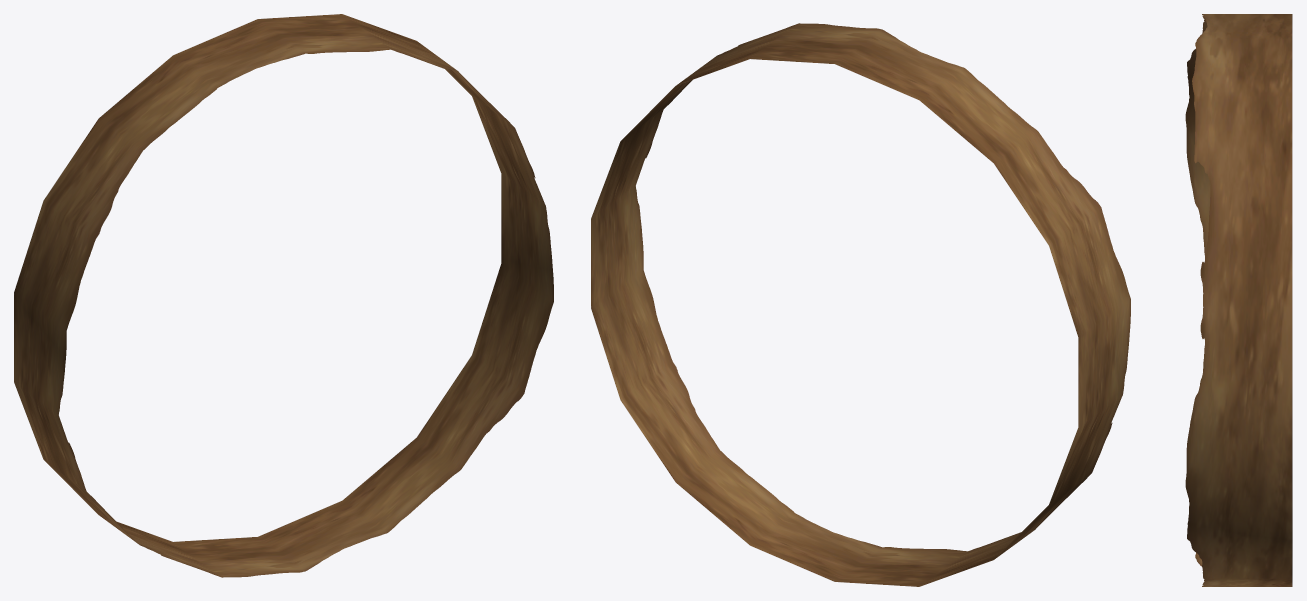
Rendered from tdr_z_stormc.obj.
3 views of the same model, side by side, from view 1: azimuth 30°, elevation 25°; view 2: azimuth 150°, elevation 25°; view 3: azimuth 270°, elevation 25° (orthographic).
Parts seen in each view (by area): view 1: tdr_z_stormc; view 2: tdr_z_stormc; view 3: tdr_z_stormc.
Boxes of the visible parts, left/top/right/bottom form: tdr_z_stormc: left=14, top=14, right=553, bottom=577; tdr_z_stormc: left=591, top=23, right=1130, bottom=586; tdr_z_stormc: left=1185, top=14, right=1292, bottom=586.
Bounding box in the file's own units: 12080 × 12267 × 2648.
Materials: 1 (1 with a texture image).
